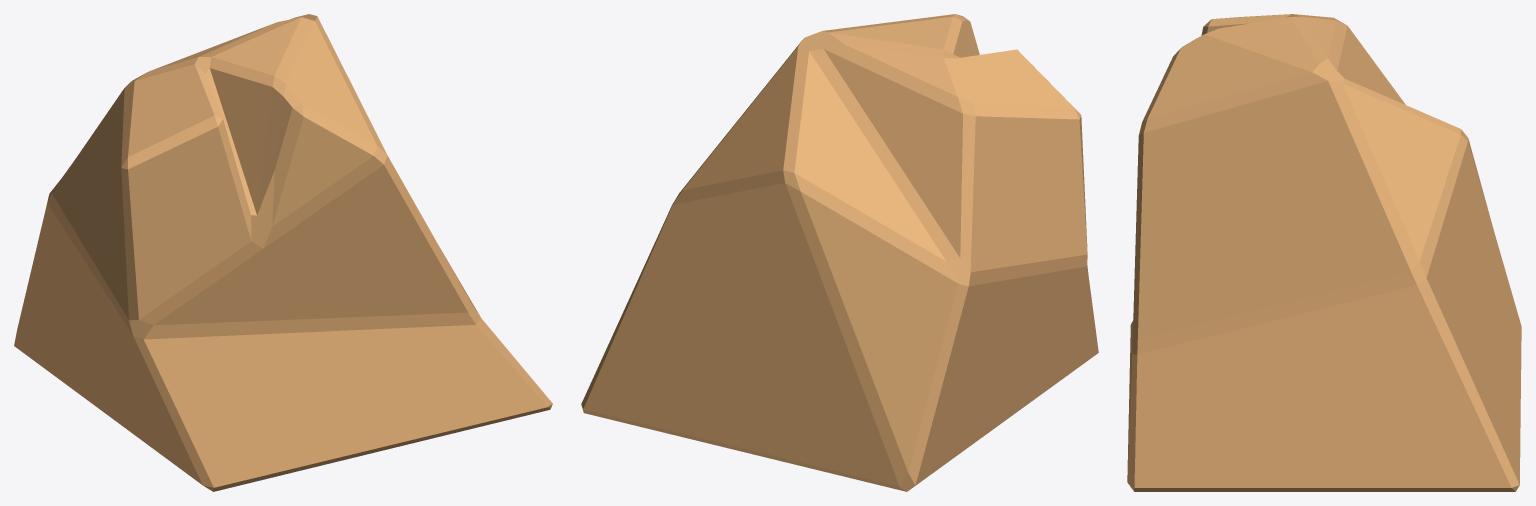
Rendered from Roca5.fbx.
The picture shows the model from 3 angles, left to right: view 1: azimuth 30°, elevation 25°; view 2: azimuth 150°, elevation 25°; view 3: azimuth 270°, elevation 25°; orthographic projection. The views are drawn at different scales.
Visible parts, largest first — view 1: Pedrolo5; view 2: Pedrolo5; view 3: Pedrolo5.
Boxes of the visible parts, left/top/right/bottom form: Pedrolo5: left=14, top=14, right=552, bottom=491; Pedrolo5: left=581, top=14, right=1098, bottom=491; Pedrolo5: left=1127, top=14, right=1521, bottom=491.
Size of the model in its own units: 595 by 540 by 545.
